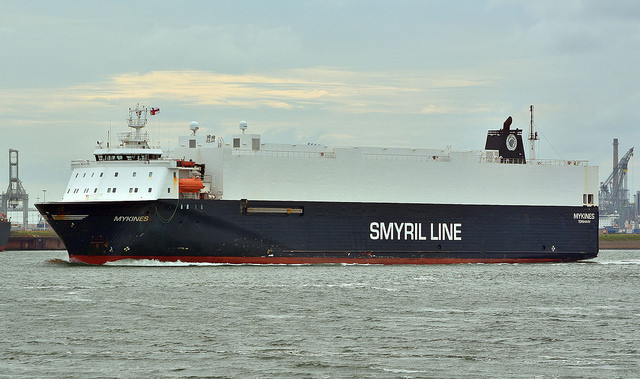PCC: (29, 100, 606, 264)
